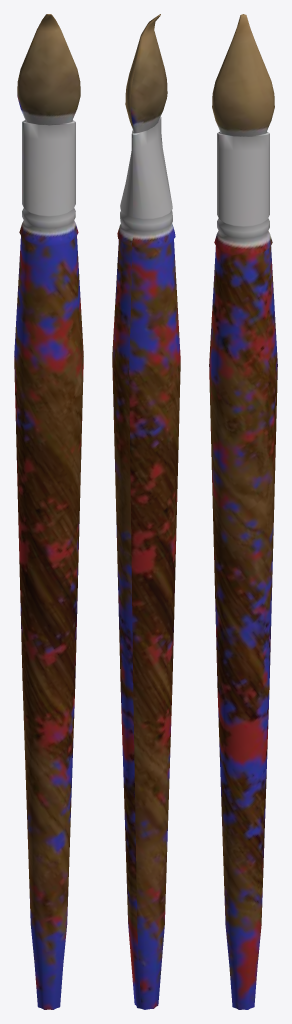
Rendered from paintbrush.glb.
3 views of the same model, side by side, from view 1: azimuth 90°, elevation 25°; view 2: azimuth 150°, elevation 25°; view 3: azimuth 270°, elevation 25° (orthographic).
Parts seen in each view (by area): view 1: Heropaintbrush_low_lambert1_0; view 2: Heropaintbrush_low_lambert1_0; view 3: Heropaintbrush_low_lambert1_0.
Part boxes in pixels (x1,y1,x2,y2): Heropaintbrush_low_lambert1_0: [14, 14, 83, 1009]; Heropaintbrush_low_lambert1_0: [112, 14, 180, 1009]; Heropaintbrush_low_lambert1_0: [209, 14, 277, 1009].
Size of the model in its own units: 0.00282 by 0.0445 by 0.00282.
1 material, 1 textured.
